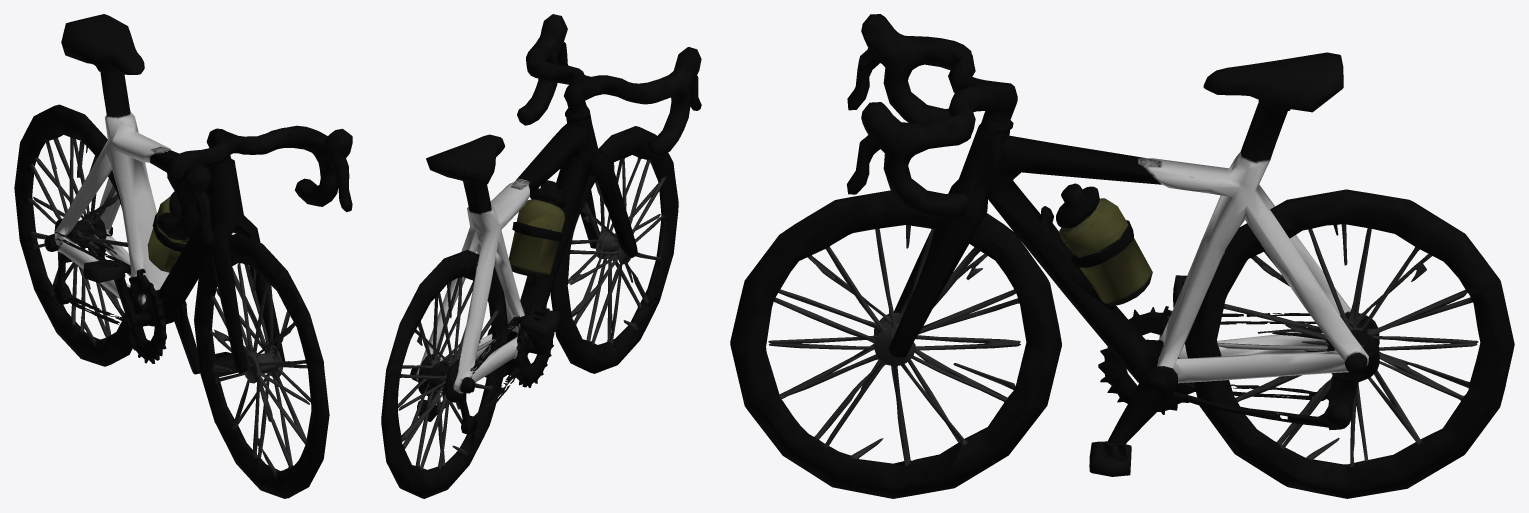
The model's file is bike.glb.
3 renders of one model, left to right at view 1: azimuth 30°, elevation 25°; view 2: azimuth 150°, elevation 25°; view 3: azimuth 270°, elevation 25°, orthographic. The views are drawn at different scales.
Visible parts, largest first — view 1: world; view 2: world; view 3: world.
Part boxes in pixels (x1,y1,x2,y2): world: (14, 14, 352, 498); world: (381, 14, 701, 498); world: (730, 14, 1514, 498).
Size of the model in its own units: 0.3103 by 0.6163 by 1.
1 material, 1 textured.
